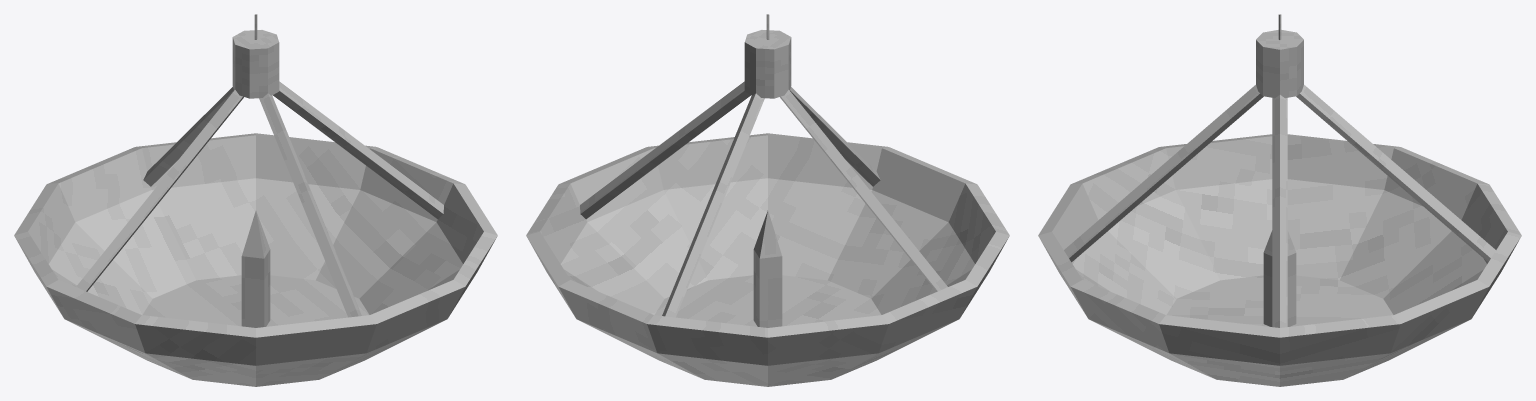
File: parabolic_antenna.obj
The picture shows the model from 3 angles, left to right: view 1: azimuth 30°, elevation 25°; view 2: azimuth 150°, elevation 25°; view 3: azimuth 270°, elevation 25°; orthographic projection.
Visible parts, largest first — view 1: Cylinder.001, Cylinder.005_Cylinder.004, Cylinder.006_Cylinder.004, Cylinder.004, Cylinder.008_Cylinder.005, Cylinder.003, Cylinder.007_Cylinder.004; view 2: Cylinder.001, Cylinder.007_Cylinder.004, Cylinder.006_Cylinder.004, Cylinder.004, Cylinder.008_Cylinder.005, Cylinder.003, Cylinder.005_Cylinder.004; view 3: Cylinder.001, Cylinder.005_Cylinder.004, Cylinder.007_Cylinder.004, Cylinder.006_Cylinder.004, Cylinder.008_Cylinder.005, Cylinder.003.
Part boxes in pixels (<box>): Cylinder.001: <box>14,133,497,386</box>; Cylinder.005_Cylinder.004: <box>259,93,361,317</box>; Cylinder.006_Cylinder.004: <box>273,81,443,219</box>; Cylinder.004: <box>76,90,243,291</box>; Cylinder.008_Cylinder.005: <box>232,30,279,98</box>; Cylinder.003: <box>241,210,270,327</box>; Cylinder.007_Cylinder.004: <box>143,87,233,186</box>; Cylinder.001: <box>526,133,1009,386</box>; Cylinder.007_Cylinder.004: <box>662,93,764,317</box>; Cylinder.006_Cylinder.004: <box>580,81,750,219</box>; Cylinder.004: <box>780,90,947,291</box>; Cylinder.008_Cylinder.005: <box>744,30,791,98</box>; Cylinder.003: <box>753,210,782,327</box>; Cylinder.005_Cylinder.004: <box>790,87,880,186</box>; Cylinder.001: <box>1038,134,1521,386</box>; Cylinder.005_Cylinder.004: <box>1064,85,1263,262</box>; Cylinder.007_Cylinder.004: <box>1296,85,1495,262</box>; Cylinder.006_Cylinder.004: <box>1272,95,1287,327</box>; Cylinder.008_Cylinder.005: <box>1256,30,1303,98</box>; Cylinder.003: <box>1263,230,1296,326</box>.
Size of the model in its own units: 3.82 by 3.1 by 3.82.
